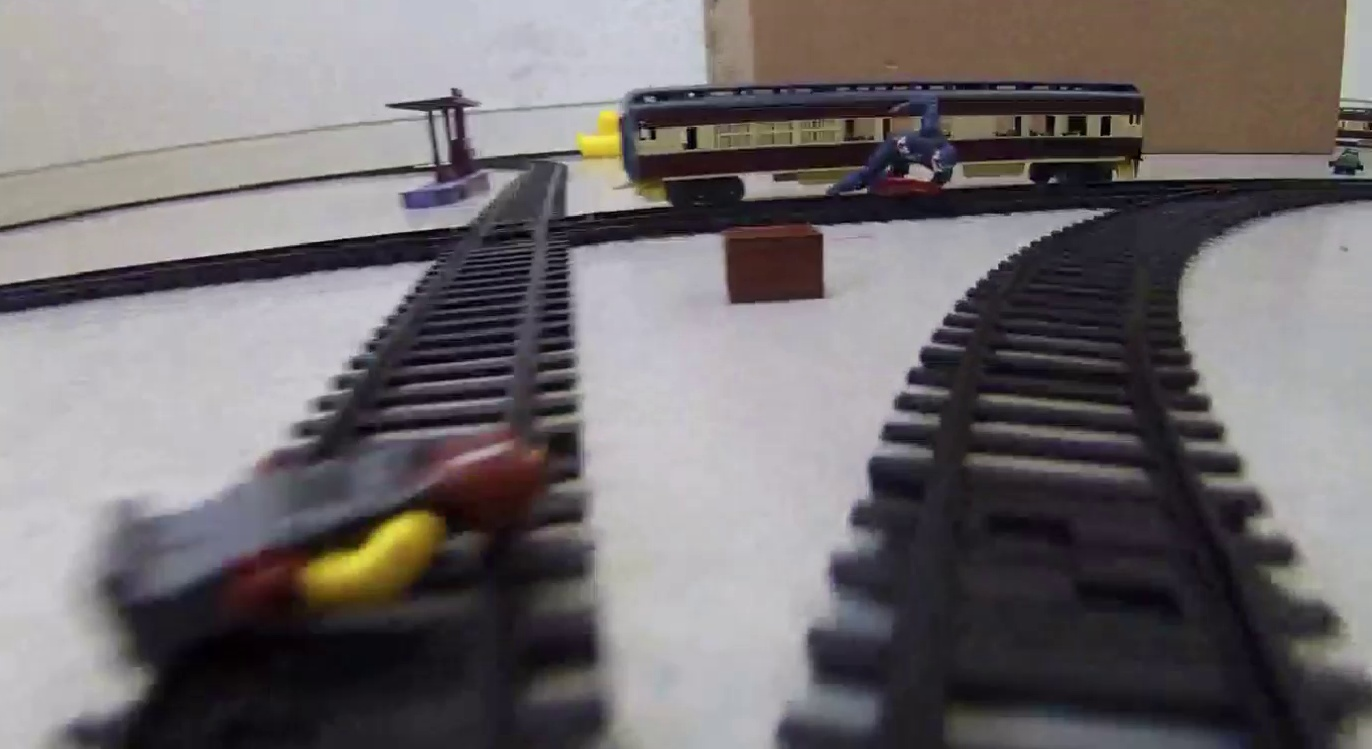people: (87, 422, 549, 673)
